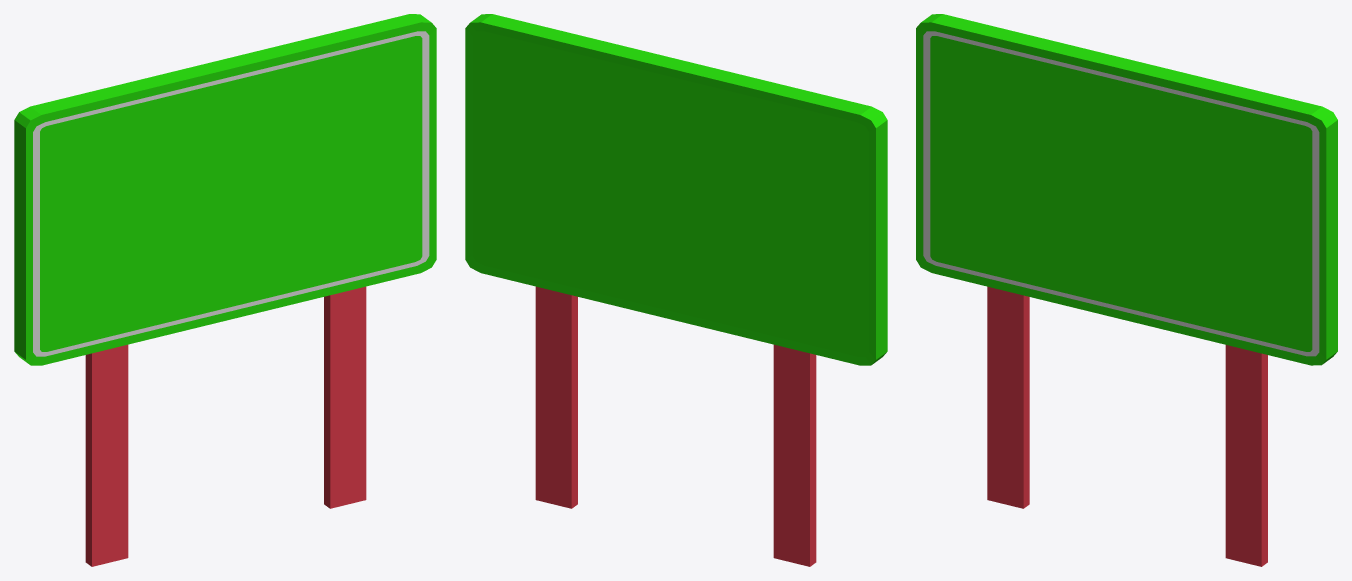
Rendered from DirectionSign.fbx.
3 views of the same model, side by side, from view 1: azimuth 30°, elevation 25°; view 2: azimuth 150°, elevation 25°; view 3: azimuth 330°, elevation 25° (orthographic).
Visible parts, largest first — view 1: DirectionSign, Bar1, Bar2; view 2: DirectionSign, Bar1, Bar2; view 3: DirectionSign, Bar1, Bar2.
Boxes of the visible parts, box(x1,y1,x2,y2) form: DirectionSign: box(14, 14, 436, 365); Bar1: box(85, 344, 128, 566); Bar2: box(324, 286, 366, 508); DirectionSign: box(465, 14, 887, 365); Bar1: box(773, 344, 816, 566); Bar2: box(535, 286, 577, 508); DirectionSign: box(916, 14, 1337, 365); Bar1: box(987, 286, 1029, 508); Bar2: box(1225, 345, 1267, 566).
Size of the model in its own units: 5.37 by 5.83 by 0.2612.
